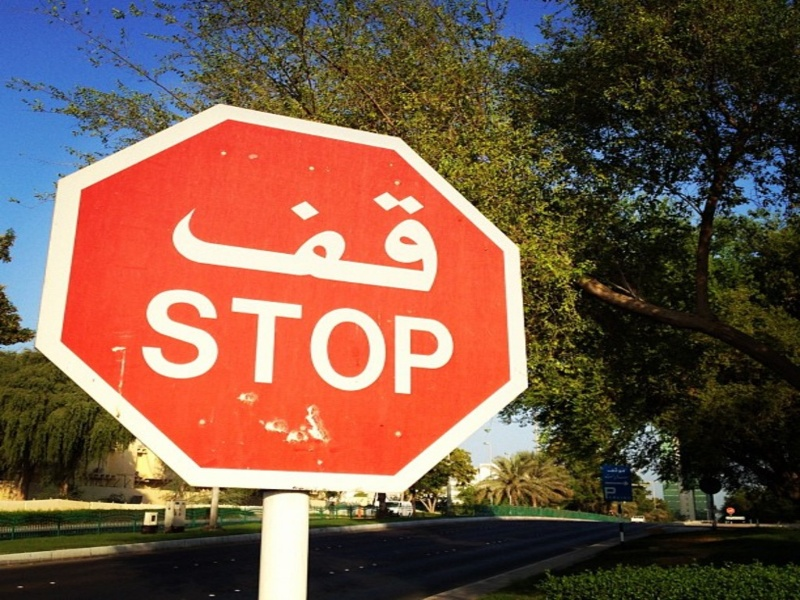stop: (51, 160, 513, 460)
